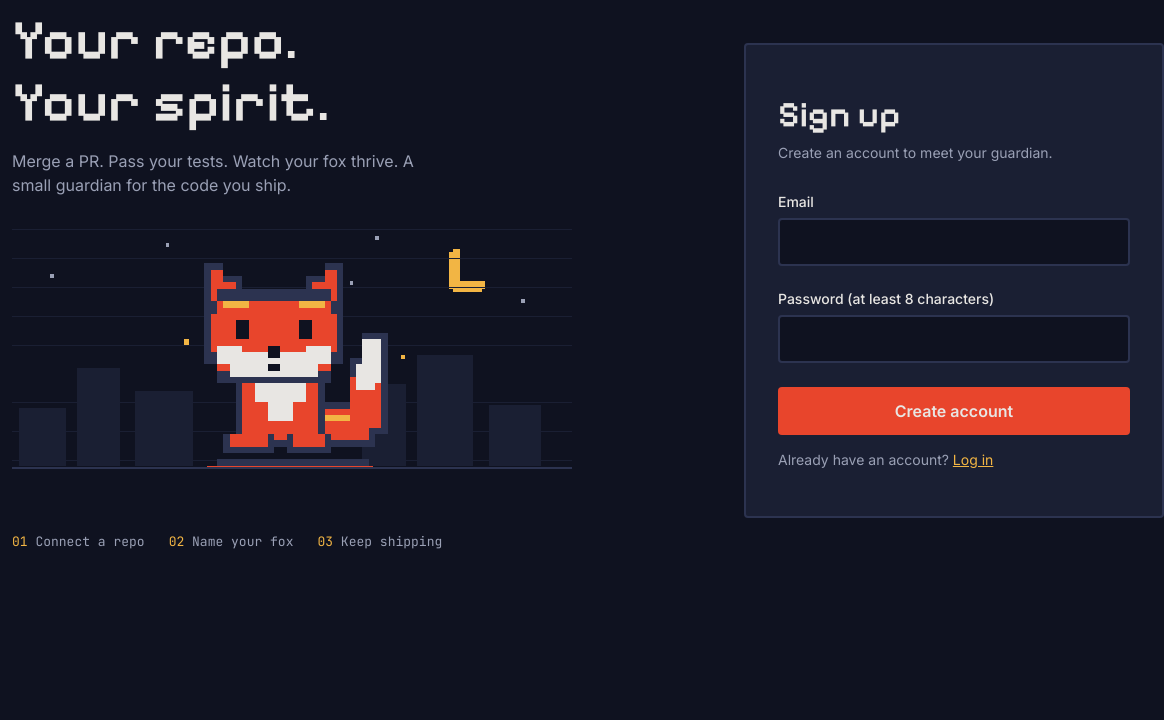
Test: SignupPage › shows the server's message for a 409, and stays on the page
The image size is (1164, 720).
Step 1. Type "fox@example.com" into the field labelled "Email" → point(954, 242), box x1=778 y1=218 x2=1130 y2=266
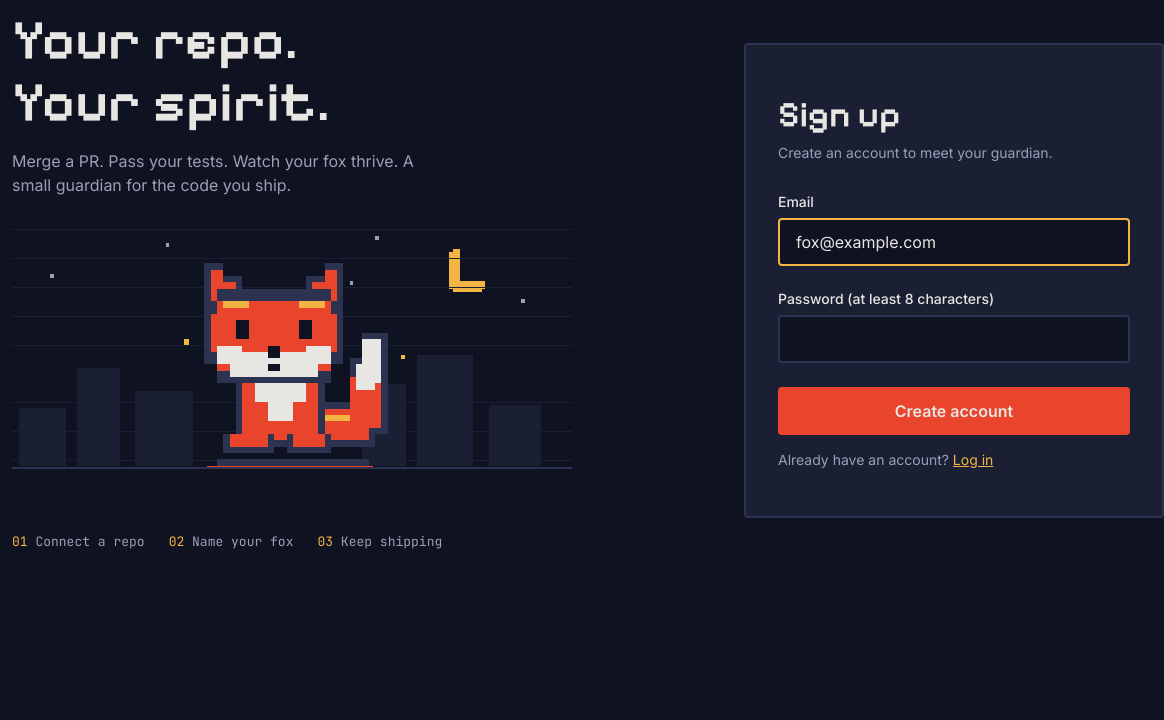
Step 2. Type "hunter2!!" into the password field labelled "Password (at least 8 characters)" → point(954, 338), box x1=778 y1=314 x2=1130 y2=362
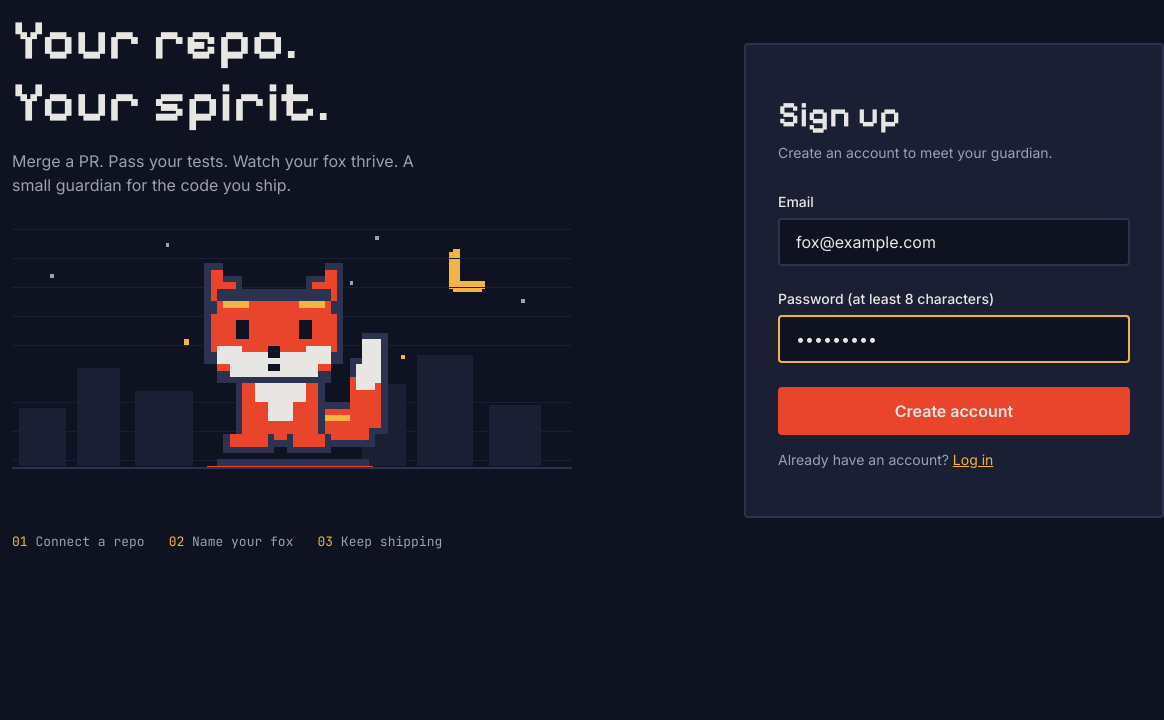
Step 3. Click the button "Create account" → point(954, 410), box x1=778 y1=386 x2=1130 y2=434
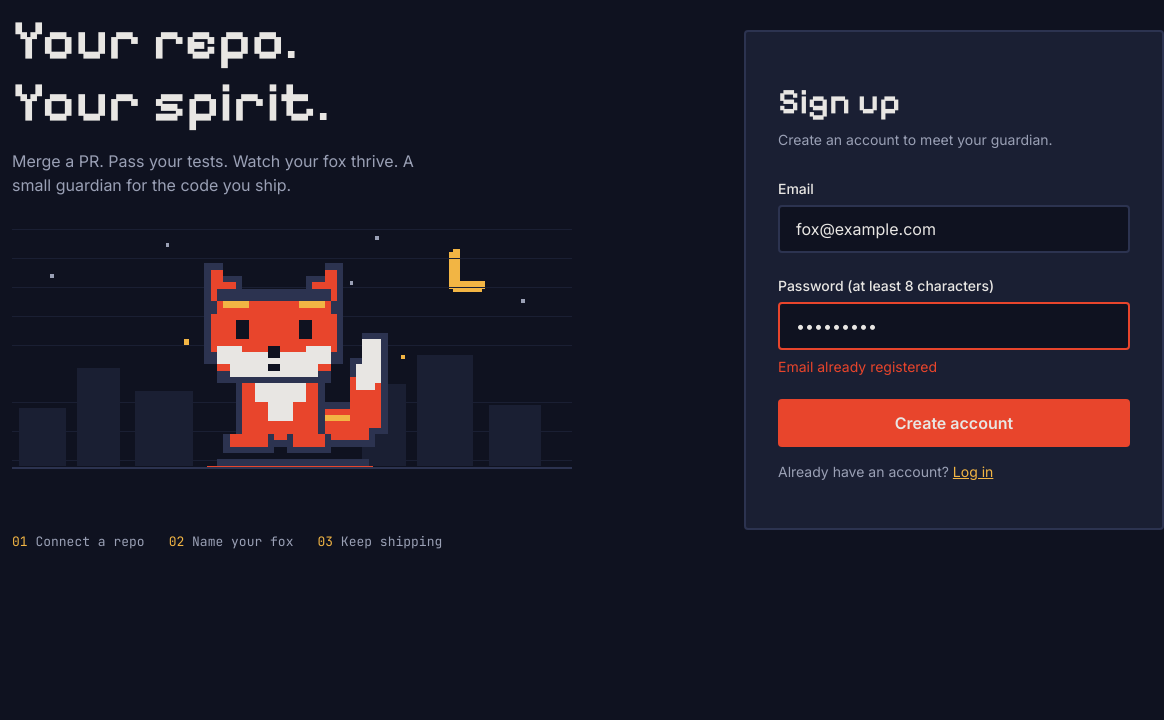
Now the text "Email already registered" is shown, box x1=778 y1=358 x2=937 y2=375
